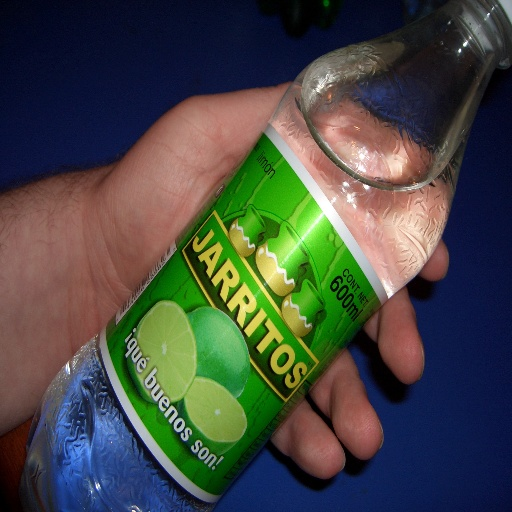hand: (0, 12, 443, 483)
